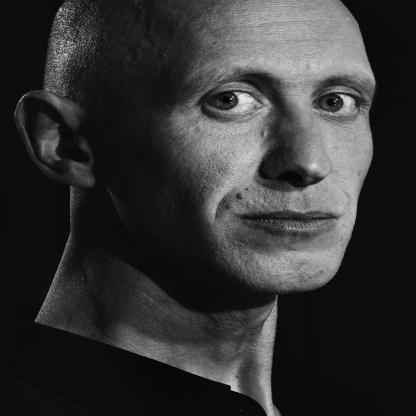Eye: (190, 76, 272, 122), (306, 80, 375, 128)
Mouth: (236, 200, 348, 244)
Nose: (252, 120, 336, 190)
